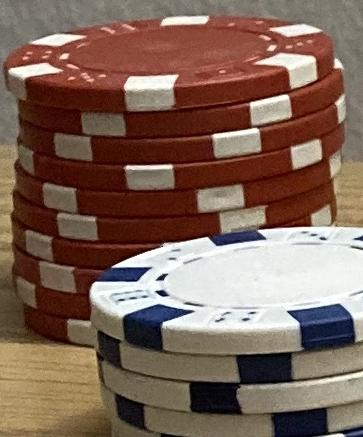Chip: (1, 1, 363, 437)
